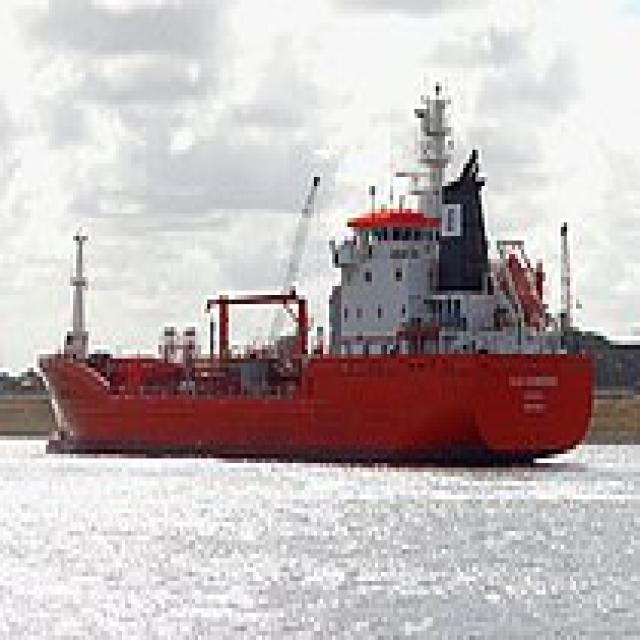Tanker: (16, 77, 594, 463)
